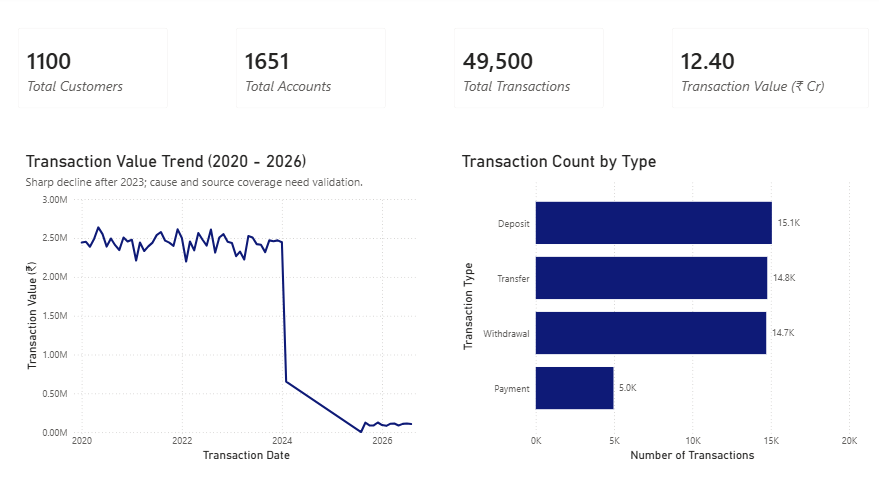

What the dashboard file says about the page in this screenshot:
{"tool":"powerbi","page":{"name":"Executive Overview","canvas":[1280,720],"ordinal":0},"visuals":[{"type":"cardVisual","fields":{"Data":["DIM_CUSTOMER.Total Customers"]},"box":[15,28.8,250,150],"z":0},{"type":"cardVisual","fields":{"Data":["DIM_ACCOUNT.Total Accounts"]},"box":[328.7,28.8,250,150],"z":1000},{"type":"cardVisual","fields":{"Data":["FACT_TRANSACTION.Total Transactions"]},"box":[642.5,28.8,250,150],"z":2000},{"type":"cardVisual","fields":{"Data":["FACT_TRANSACTION.Total Transaction Value (Cr)"]},"box":[956.2,28.8,318.2,150],"z":3000},{"type":"lineChart","title":"Transaction Value Trend (2020 - 2026)","fields":{"Y":["FACT_TRANSACTION.Total Transaction Value"],"Category":["DIM_DATE.FULL_DATE.Variation.Date Hierarchy.Year","DIM_DATE.FULL_DATE.Variation.Date Hierarchy.Month"]},"box":[37.4,224.6,580.3,450.7],"z":4000},{"type":"clusteredBarChart","title":"Transaction Count by Type","fields":{"Category":["DIM_TRANSACTION_TYPE.TYPE_NAME"],"Y":["FACT_TRANSACTION.Total Transactions"]},"box":[665.3,224.6,580.3,450.7],"z":5000}]}

Visuals, with their boxes on the page's 1280x720 design canvas (x1, y1, x2, y2). These are canvas units, not pixel positions in the 879x480 screenshot, which may show the page scaled, cropped or inside an application window:
cardVisual - DIM_CUSTOMER.Total Customers: region(15, 29, 265, 179)
cardVisual - DIM_ACCOUNT.Total Accounts: region(329, 29, 579, 179)
cardVisual - FACT_TRANSACTION.Total Transactions: region(642, 29, 892, 179)
cardVisual - FACT_TRANSACTION.Total Transaction Value (Cr): region(956, 29, 1274, 179)
"Transaction Value Trend (2020 - 2026)" lineChart: region(37, 225, 618, 675)
"Transaction Count by Type" clusteredBarChart: region(665, 225, 1246, 675)
